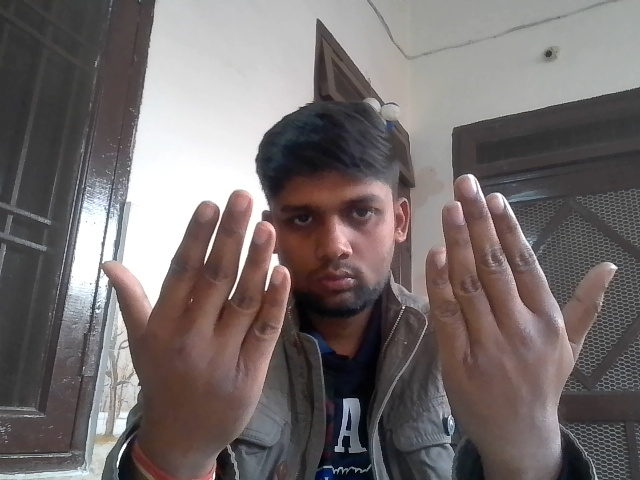ThankYou: (70, 153, 627, 419)
